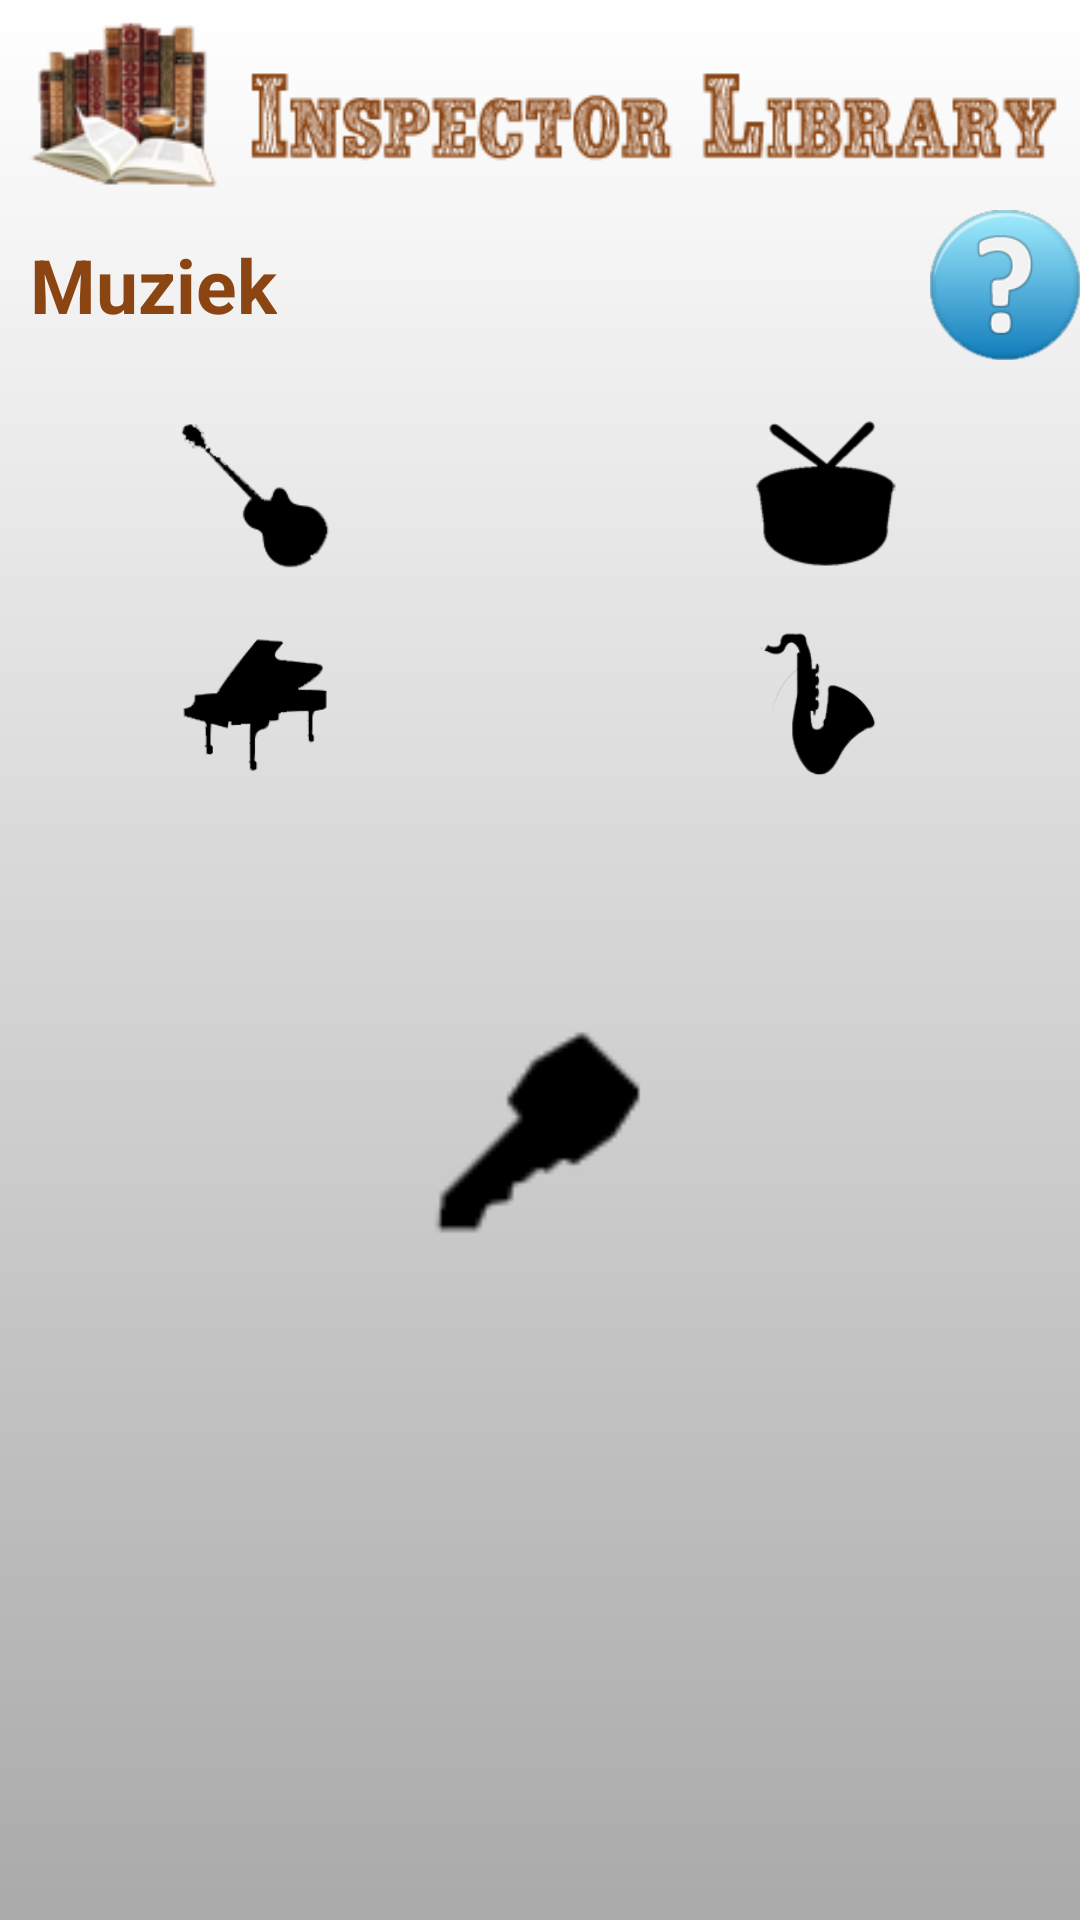

Where to tap for icons on this 1080×1920 app screen, as point (x, y):
drumsstatus: point (826, 493)
guitarstatus: point (255, 496)
help: point (1005, 285)
keystatus: point (538, 1132)
pianostatus: point (255, 705)
saxstatus: point (818, 704)
